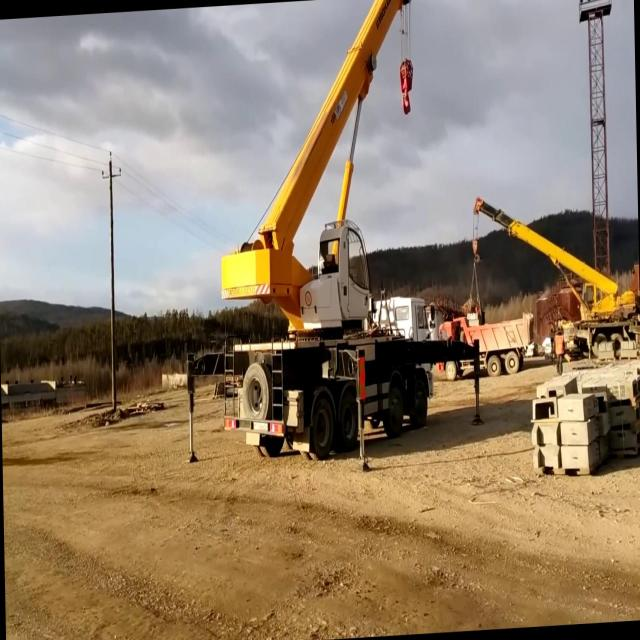crane: (176, 0, 485, 482), (469, 184, 640, 373)
